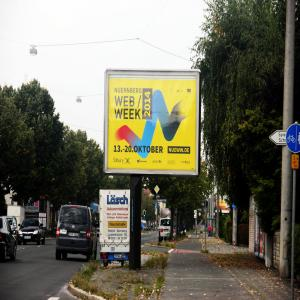Vehicle-registration-plate: (69, 234, 79, 238), (25, 238, 32, 241), (165, 230, 170, 233)
